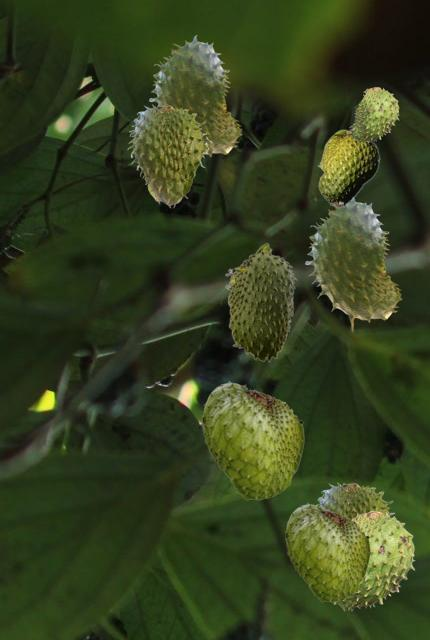guyabano: (305, 198, 401, 330), (202, 380, 303, 499), (149, 35, 241, 157), (127, 104, 211, 207), (225, 242, 296, 361), (285, 502, 369, 601), (332, 511, 414, 610), (317, 129, 379, 207), (316, 482, 398, 520), (349, 87, 398, 142)
